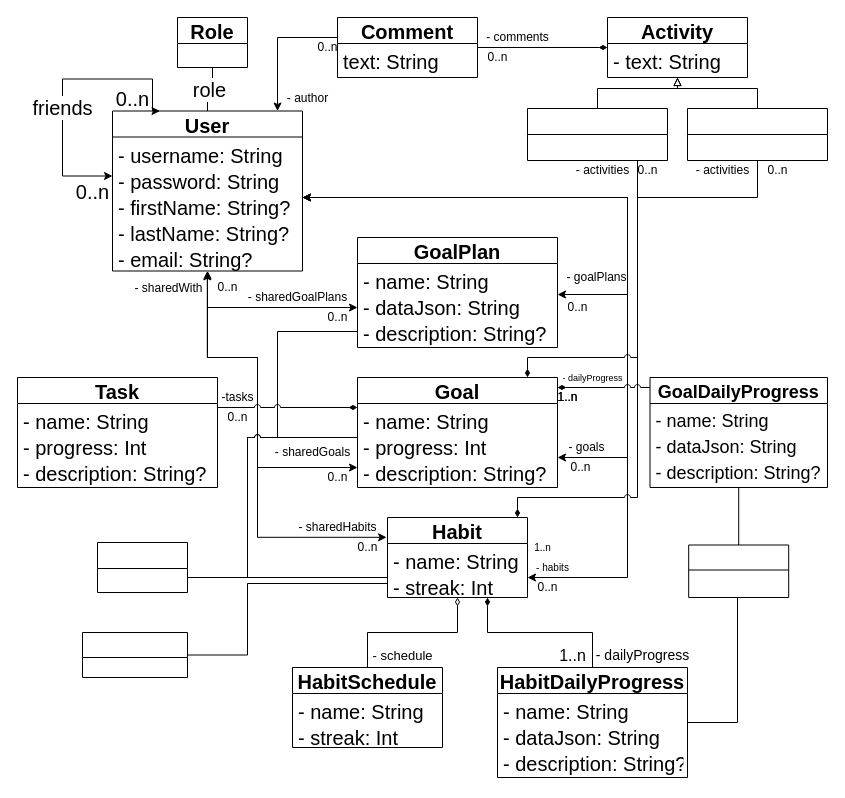
Image size: 845x798. Some labels were removed from this diagram. Here are the shapes that lost their labels. From the top down, the centre of each, then its label:
At (x=597, y=134): "GoalActivity".
At (x=757, y=134): "HabitActivity".
At (x=142, y=567): "Visibility".
At (x=738, y=571): "DailyProgress State".
At (x=135, y=655): "HabitState".
